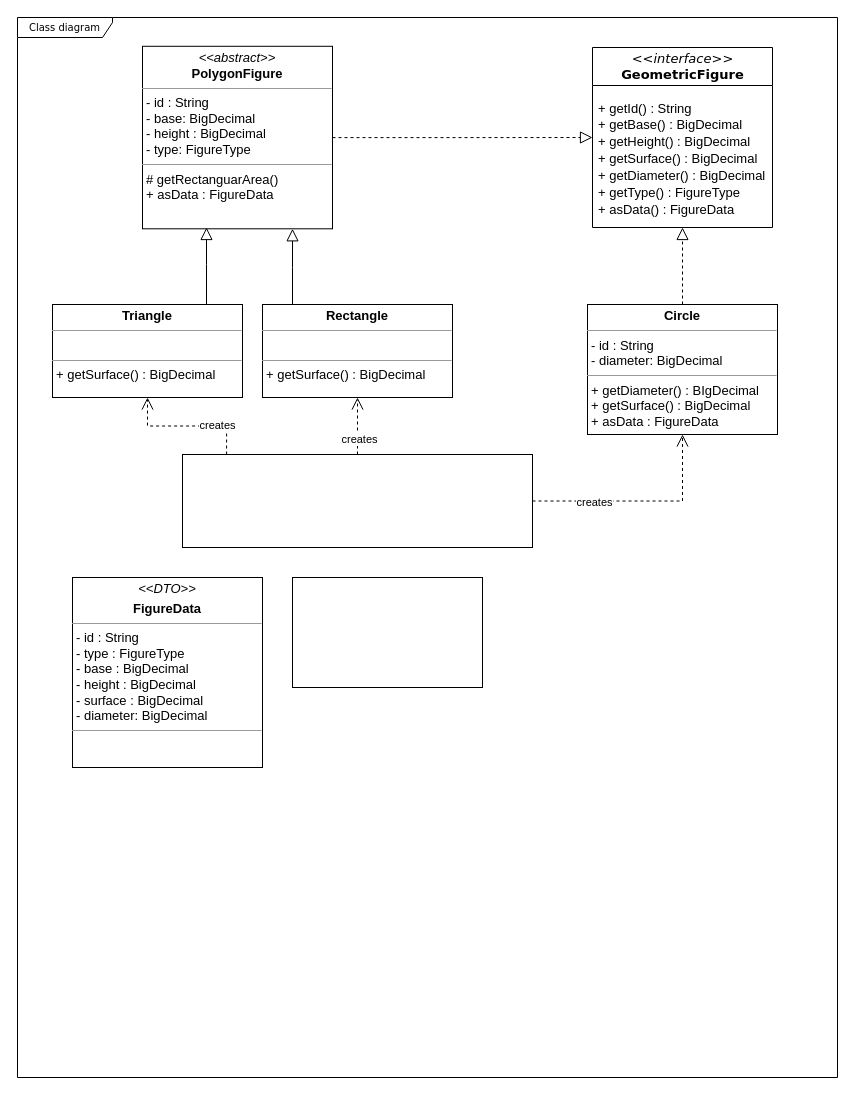
Image size: 855x1095. Some labels were removed from this diagram. Each missing label, with the centre of its shape:
<<enumeration>> FigureType CIRCLE RECTANGLE TRIANGLE: point 387,632
FigureFactory + createFigure(FigureType, FigureData) : GeometricFigure: point 357,501
